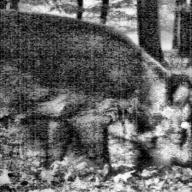boar: (4, 5, 192, 174)
